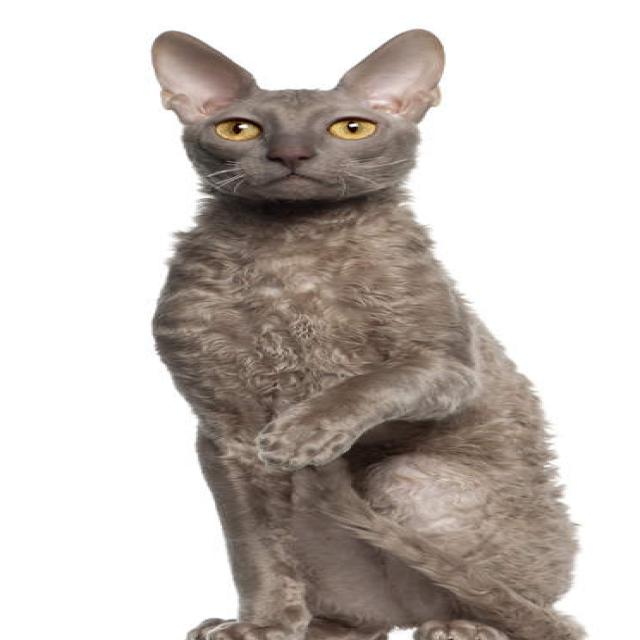Cornish Rex: (140, 24, 596, 640)
